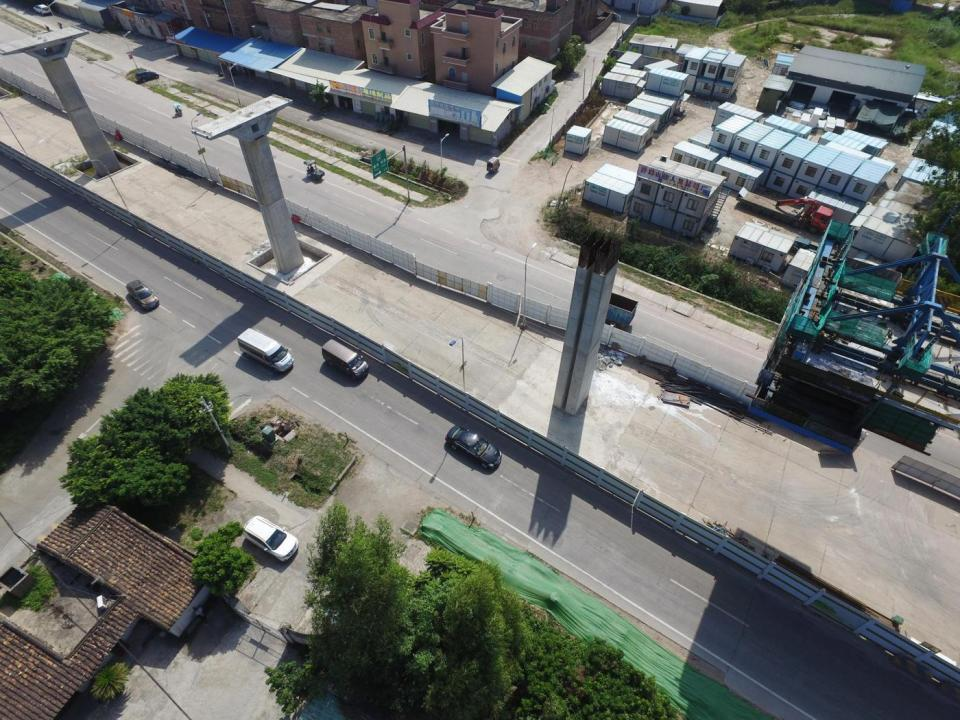car: (444, 426, 502, 472), (243, 516, 299, 562), (127, 280, 159, 312), (135, 70, 159, 82), (33, 4, 52, 17)
truck: (736, 186, 834, 232)
van: (238, 327, 294, 372), (321, 340, 370, 382), (588, 291, 638, 326)
